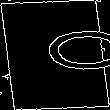O_W: (4, 32, 106, 78)
